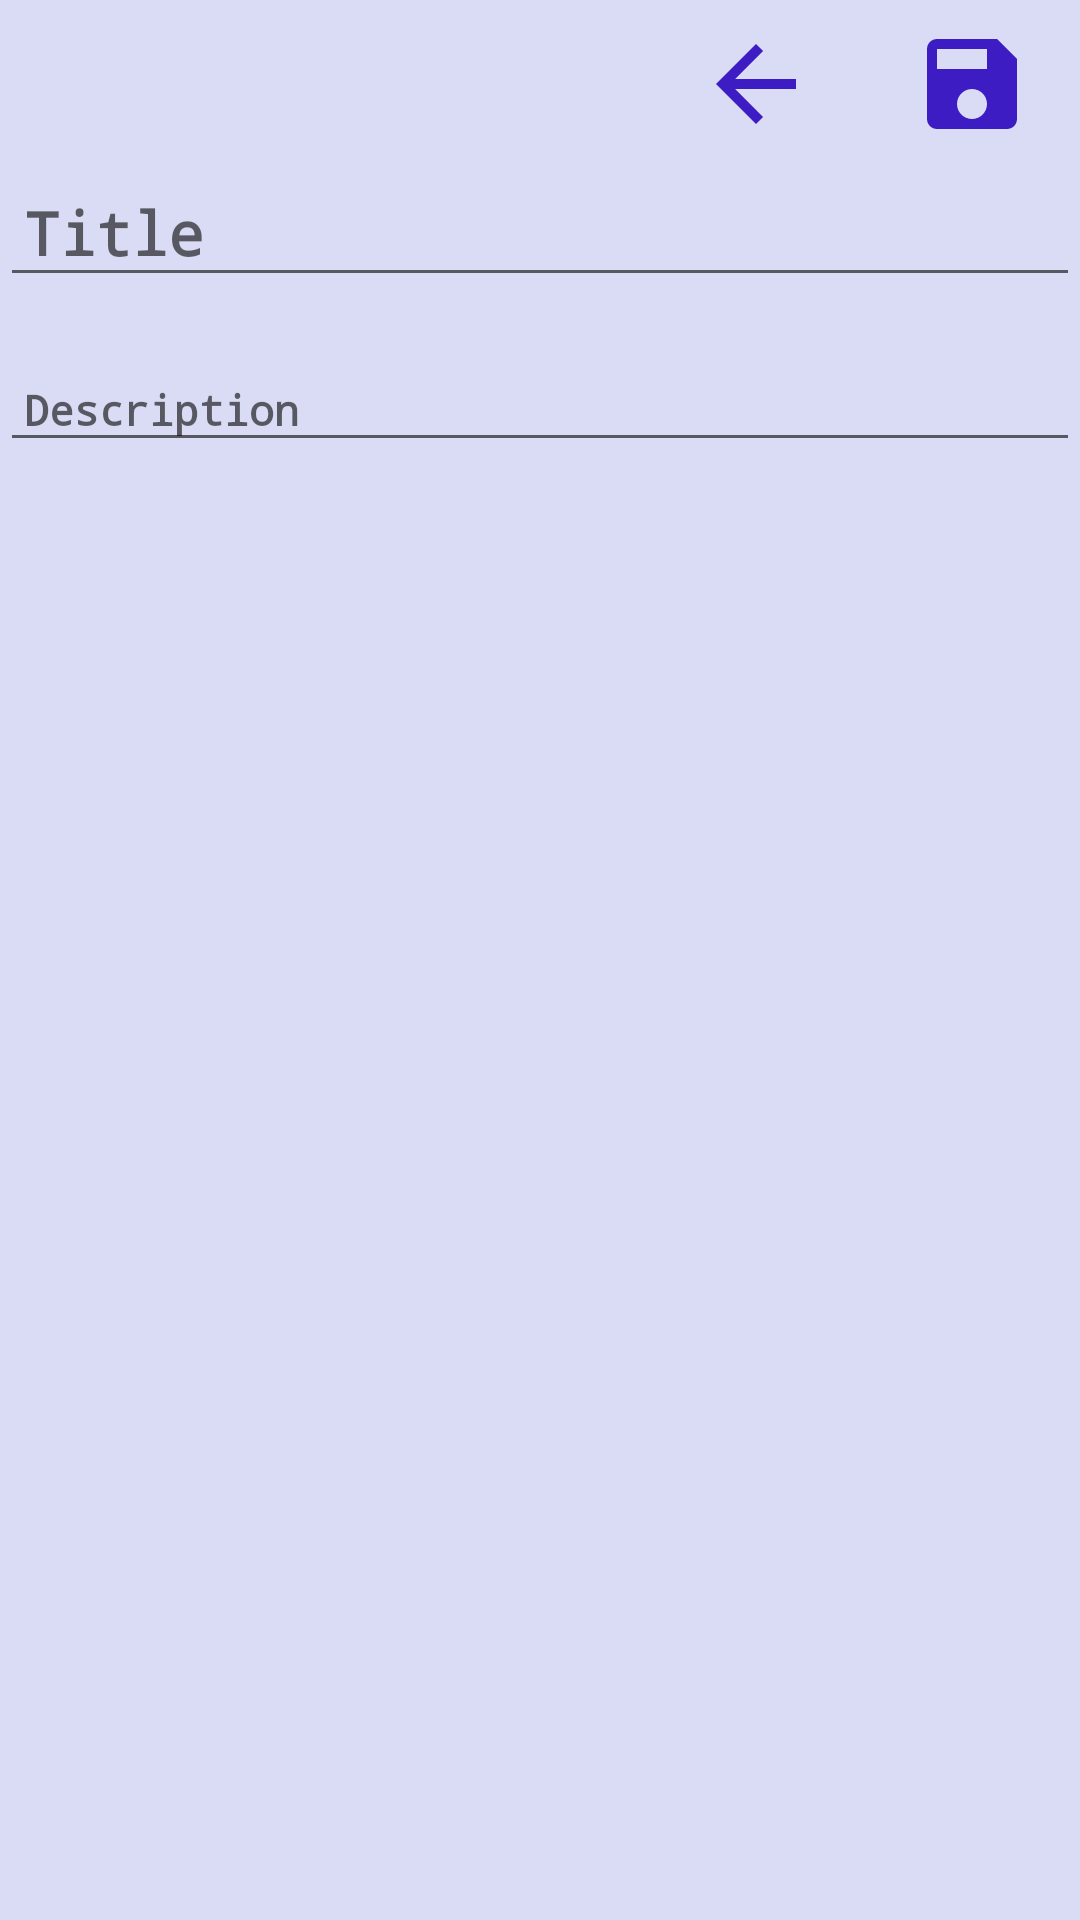

Screen size 1080w x 1920h. Icon name, then its center in pixels as (x,y):
back: (756,84)
save: (972,84)
